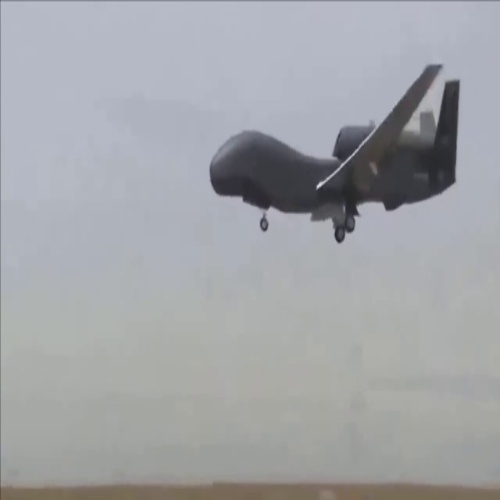uav: (205, 61, 462, 246)
